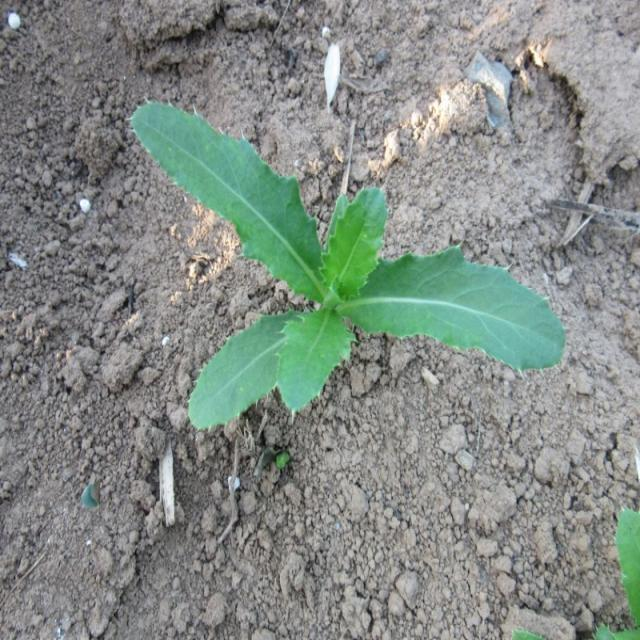cs: (130, 98, 568, 434)
